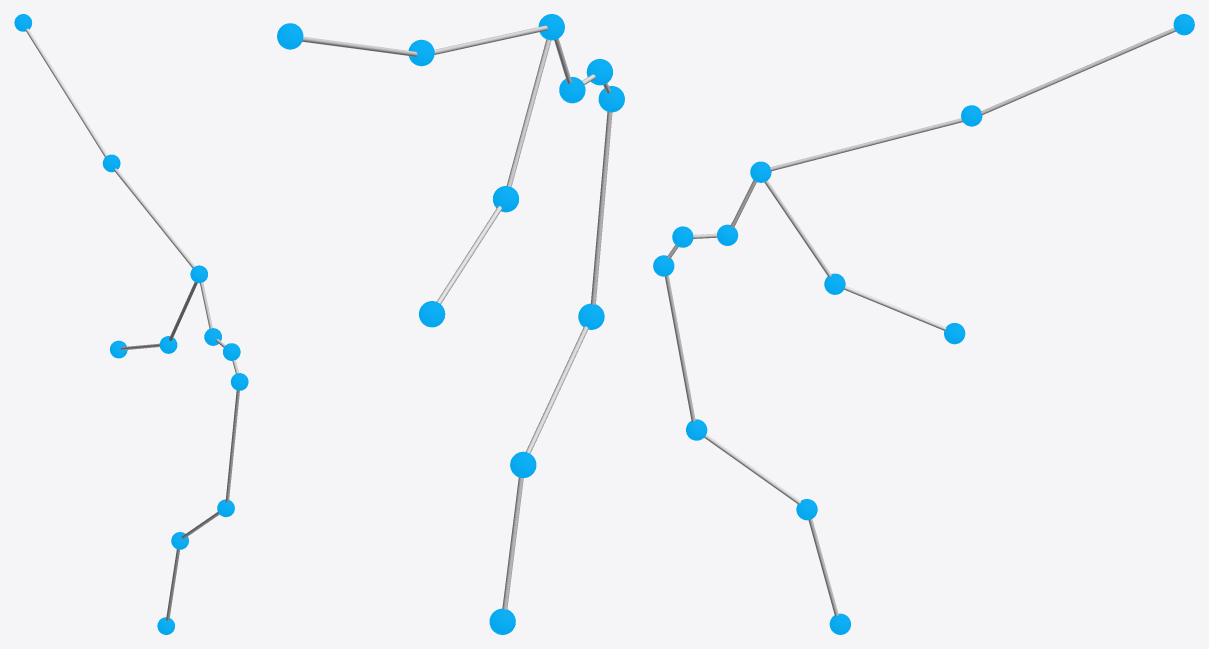
Rendered from Kumbh.glb.
The picture shows the model from 3 angles, left to right: view 1: azimuth 30°, elevation 25°; view 2: azimuth 150°, elevation 25°; view 3: azimuth 270°, elevation 25°; orthographic projection. The views are drawn at different scales.
Parts seen in each view (by area): view 1: Extra.006; view 2: Extra.006; view 3: Extra.006.
Part boxes in pixels (x1,y1,x2,y2): Extra.006: (14,14,248,634); Extra.006: (277,14,624,634); Extra.006: (653,14,1194,634).
Size of the model in its own units: 0.1011 by 3.23 by 2.56.
